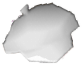beret: (1, 1, 81, 63)
